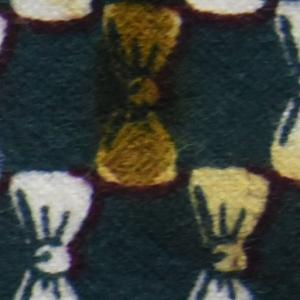Oil Stain: (52, 1, 300, 288)
